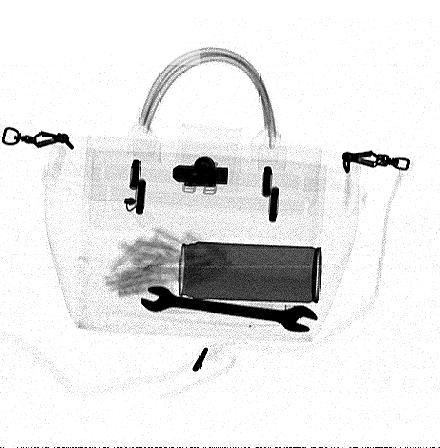Wrench: (140, 286, 319, 333)
